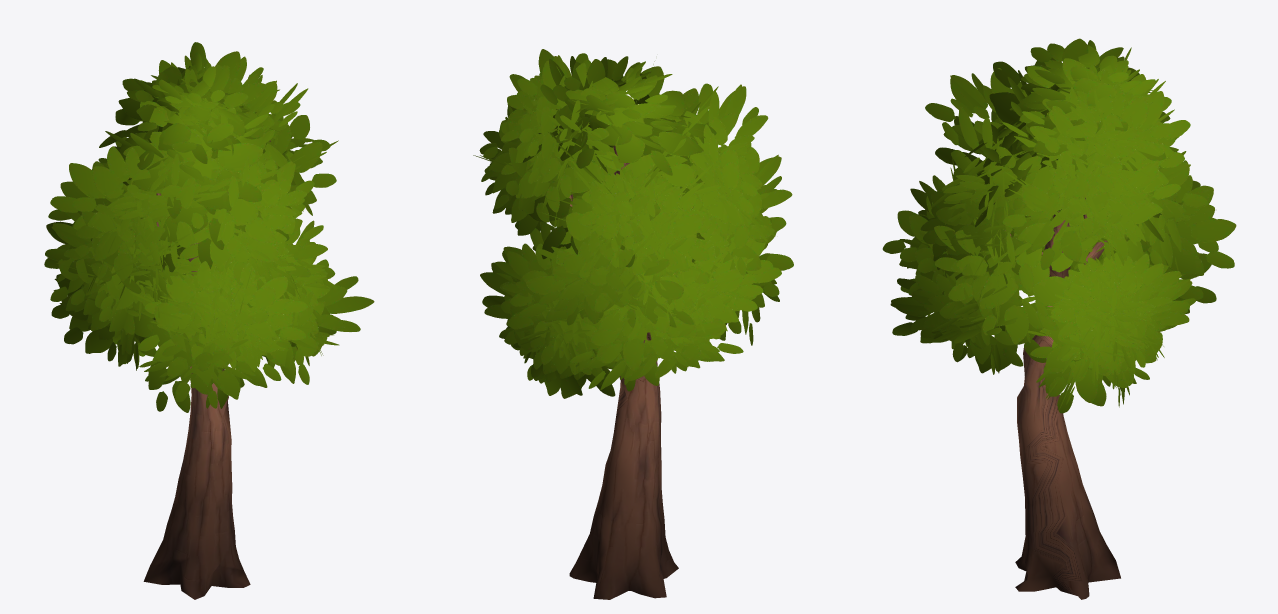
Rendered from nature_lo.glb.
3 renders of one model, left to right at view 1: azimuth 30°, elevation 25°; view 2: azimuth 150°, elevation 25°; view 3: azimuth 270°, elevation 25°, orthographic. The views are drawn at different scales.
Parts seen in each view (by area): view 1: CommonTree_1; view 2: CommonTree_1; view 3: CommonTree_1.
Part boxes in pixels (x1,y1,x2,y2): CommonTree_1: (44,42,374,599); CommonTree_1: (473,49,793,599); CommonTree_1: (882,38,1236,599).
Size of the model in its own units: 5.12 by 7.63 by 5.05.
Materials: 2 (2 with a texture image).
